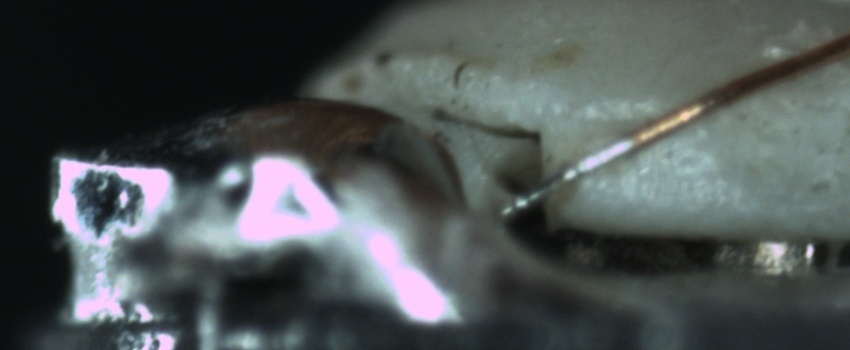DL: (564, 93, 708, 154)
TS: (507, 135, 641, 209)
TTCW: (509, 116, 673, 213)
